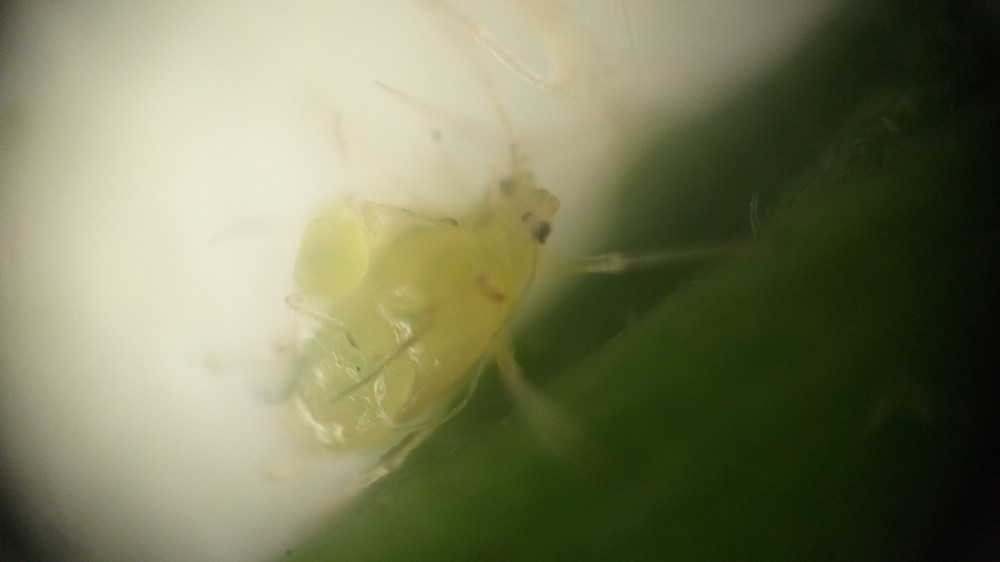Pulgon: (229, 41, 795, 494)
